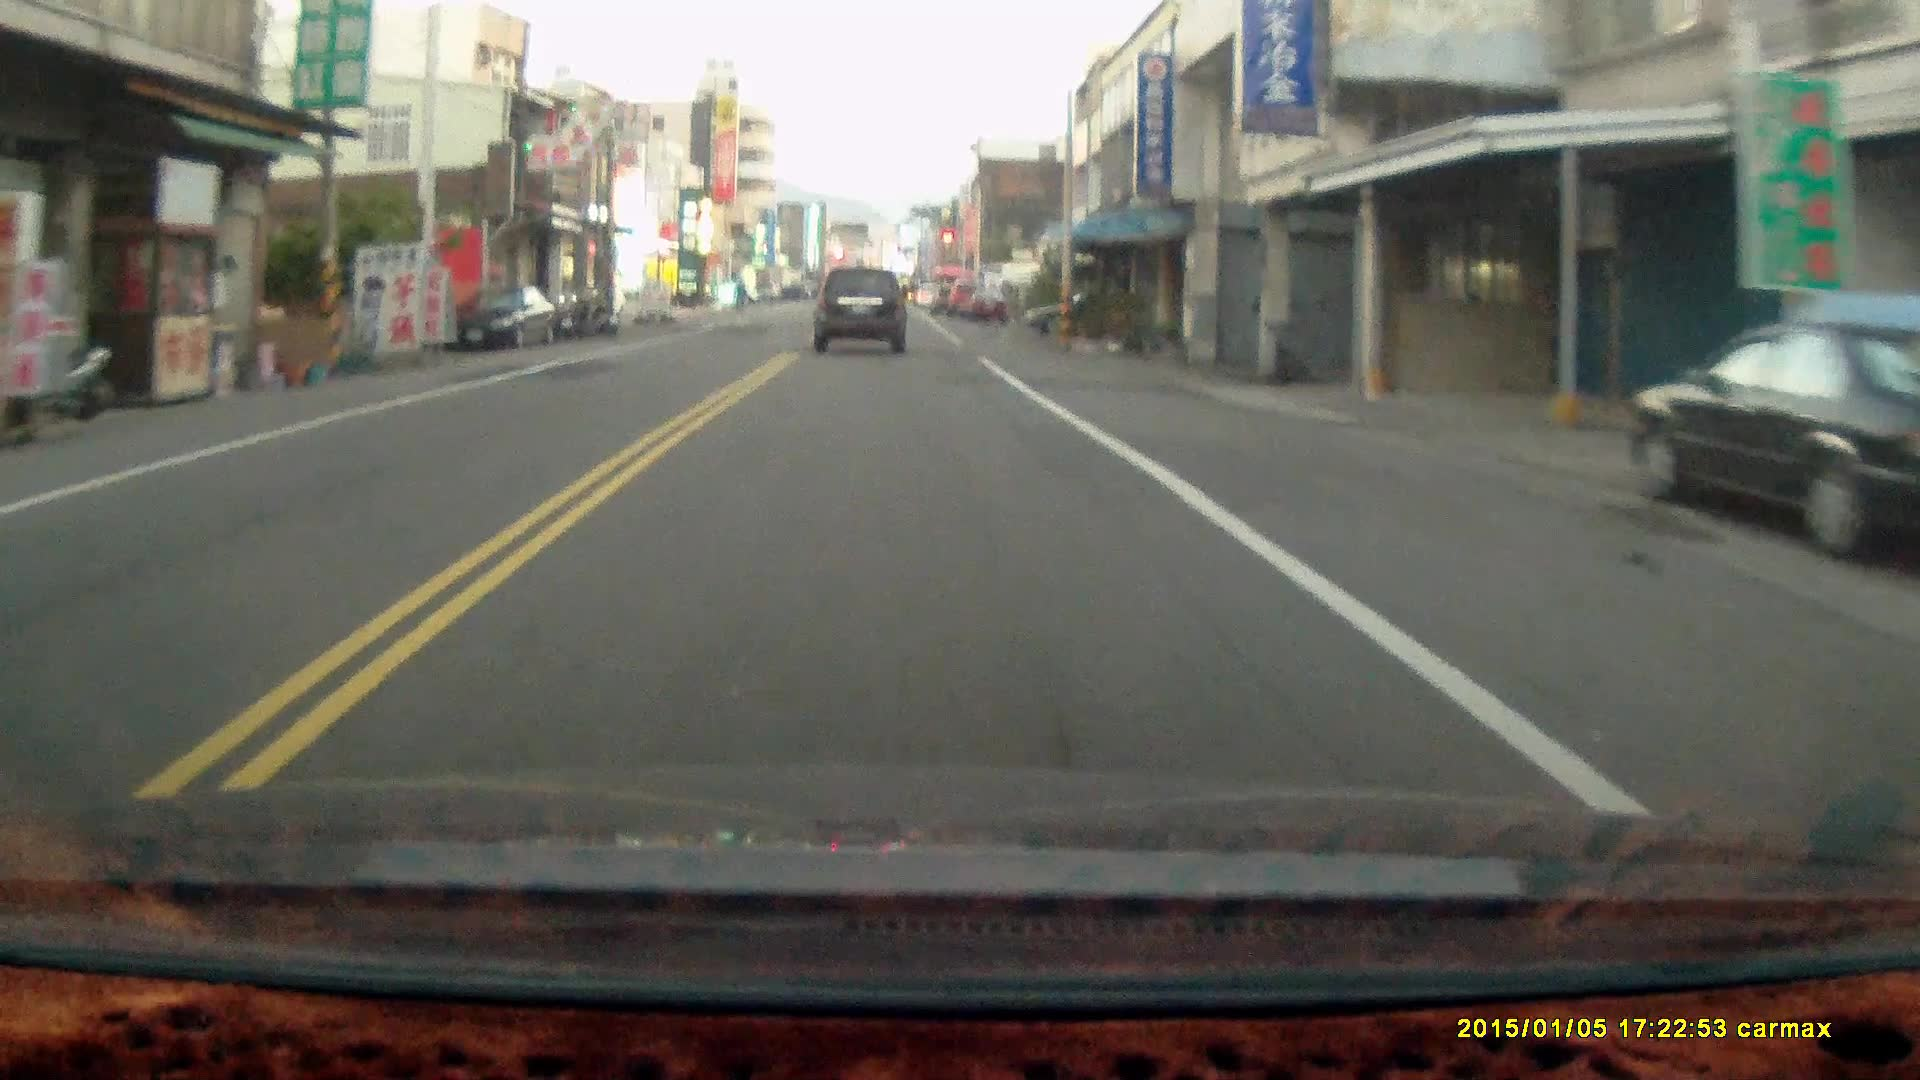vehicle: (1627, 324, 1920, 568), (814, 270, 910, 357), (444, 285, 558, 356)
